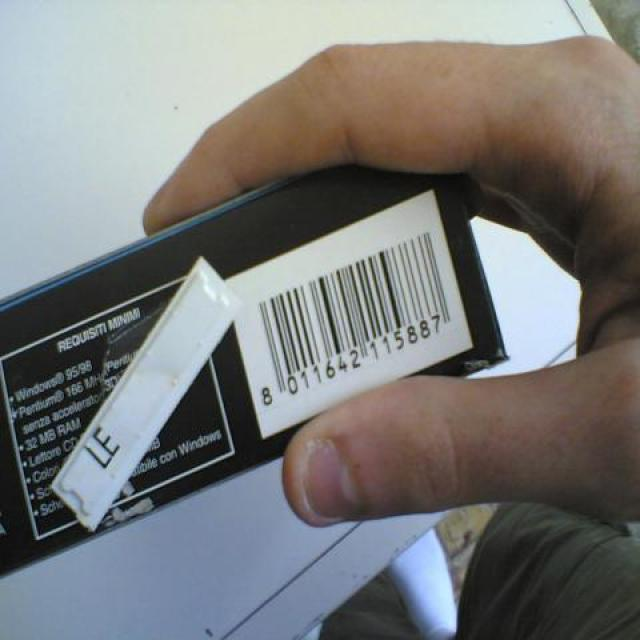Barcode: (221, 190, 476, 442)
